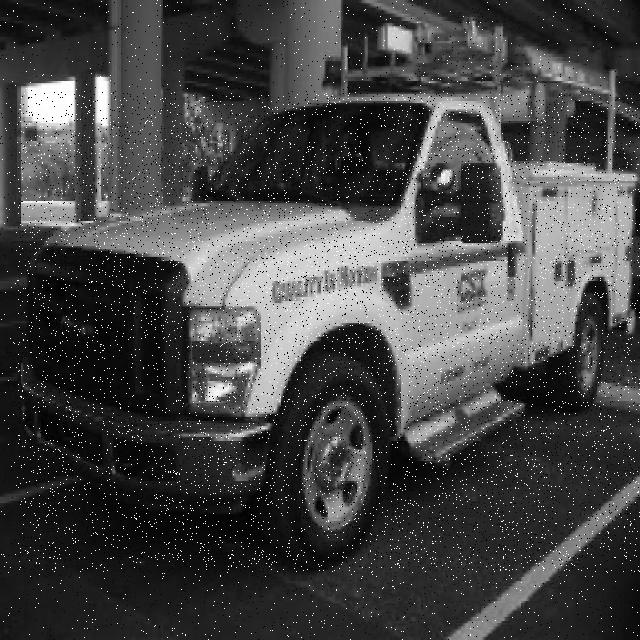Pickup- Utility: (18, 93, 640, 572)
